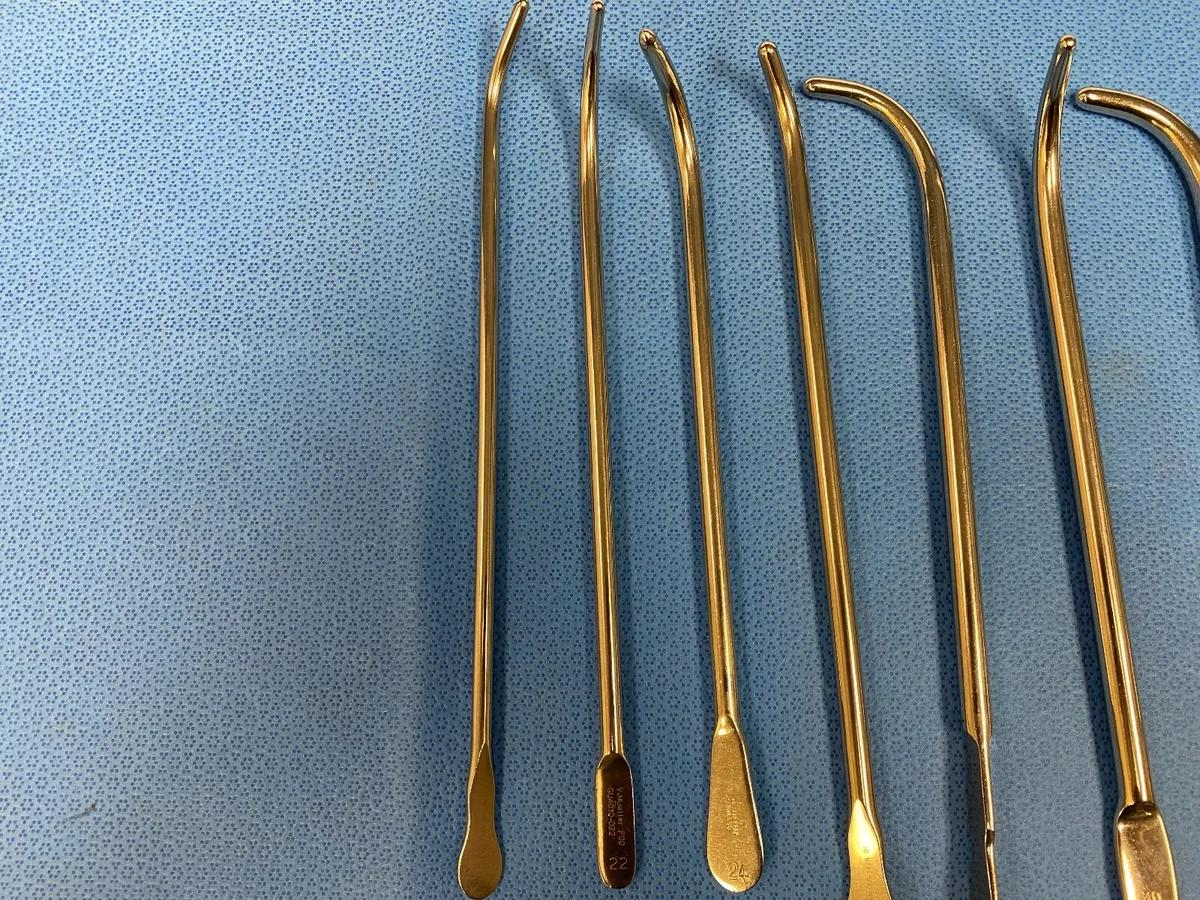Urethral Dilators: (813, 51, 1003, 900), (1013, 30, 1180, 900), (741, 37, 909, 900), (620, 11, 773, 900), (567, 3, 653, 887), (453, 1, 530, 900)
